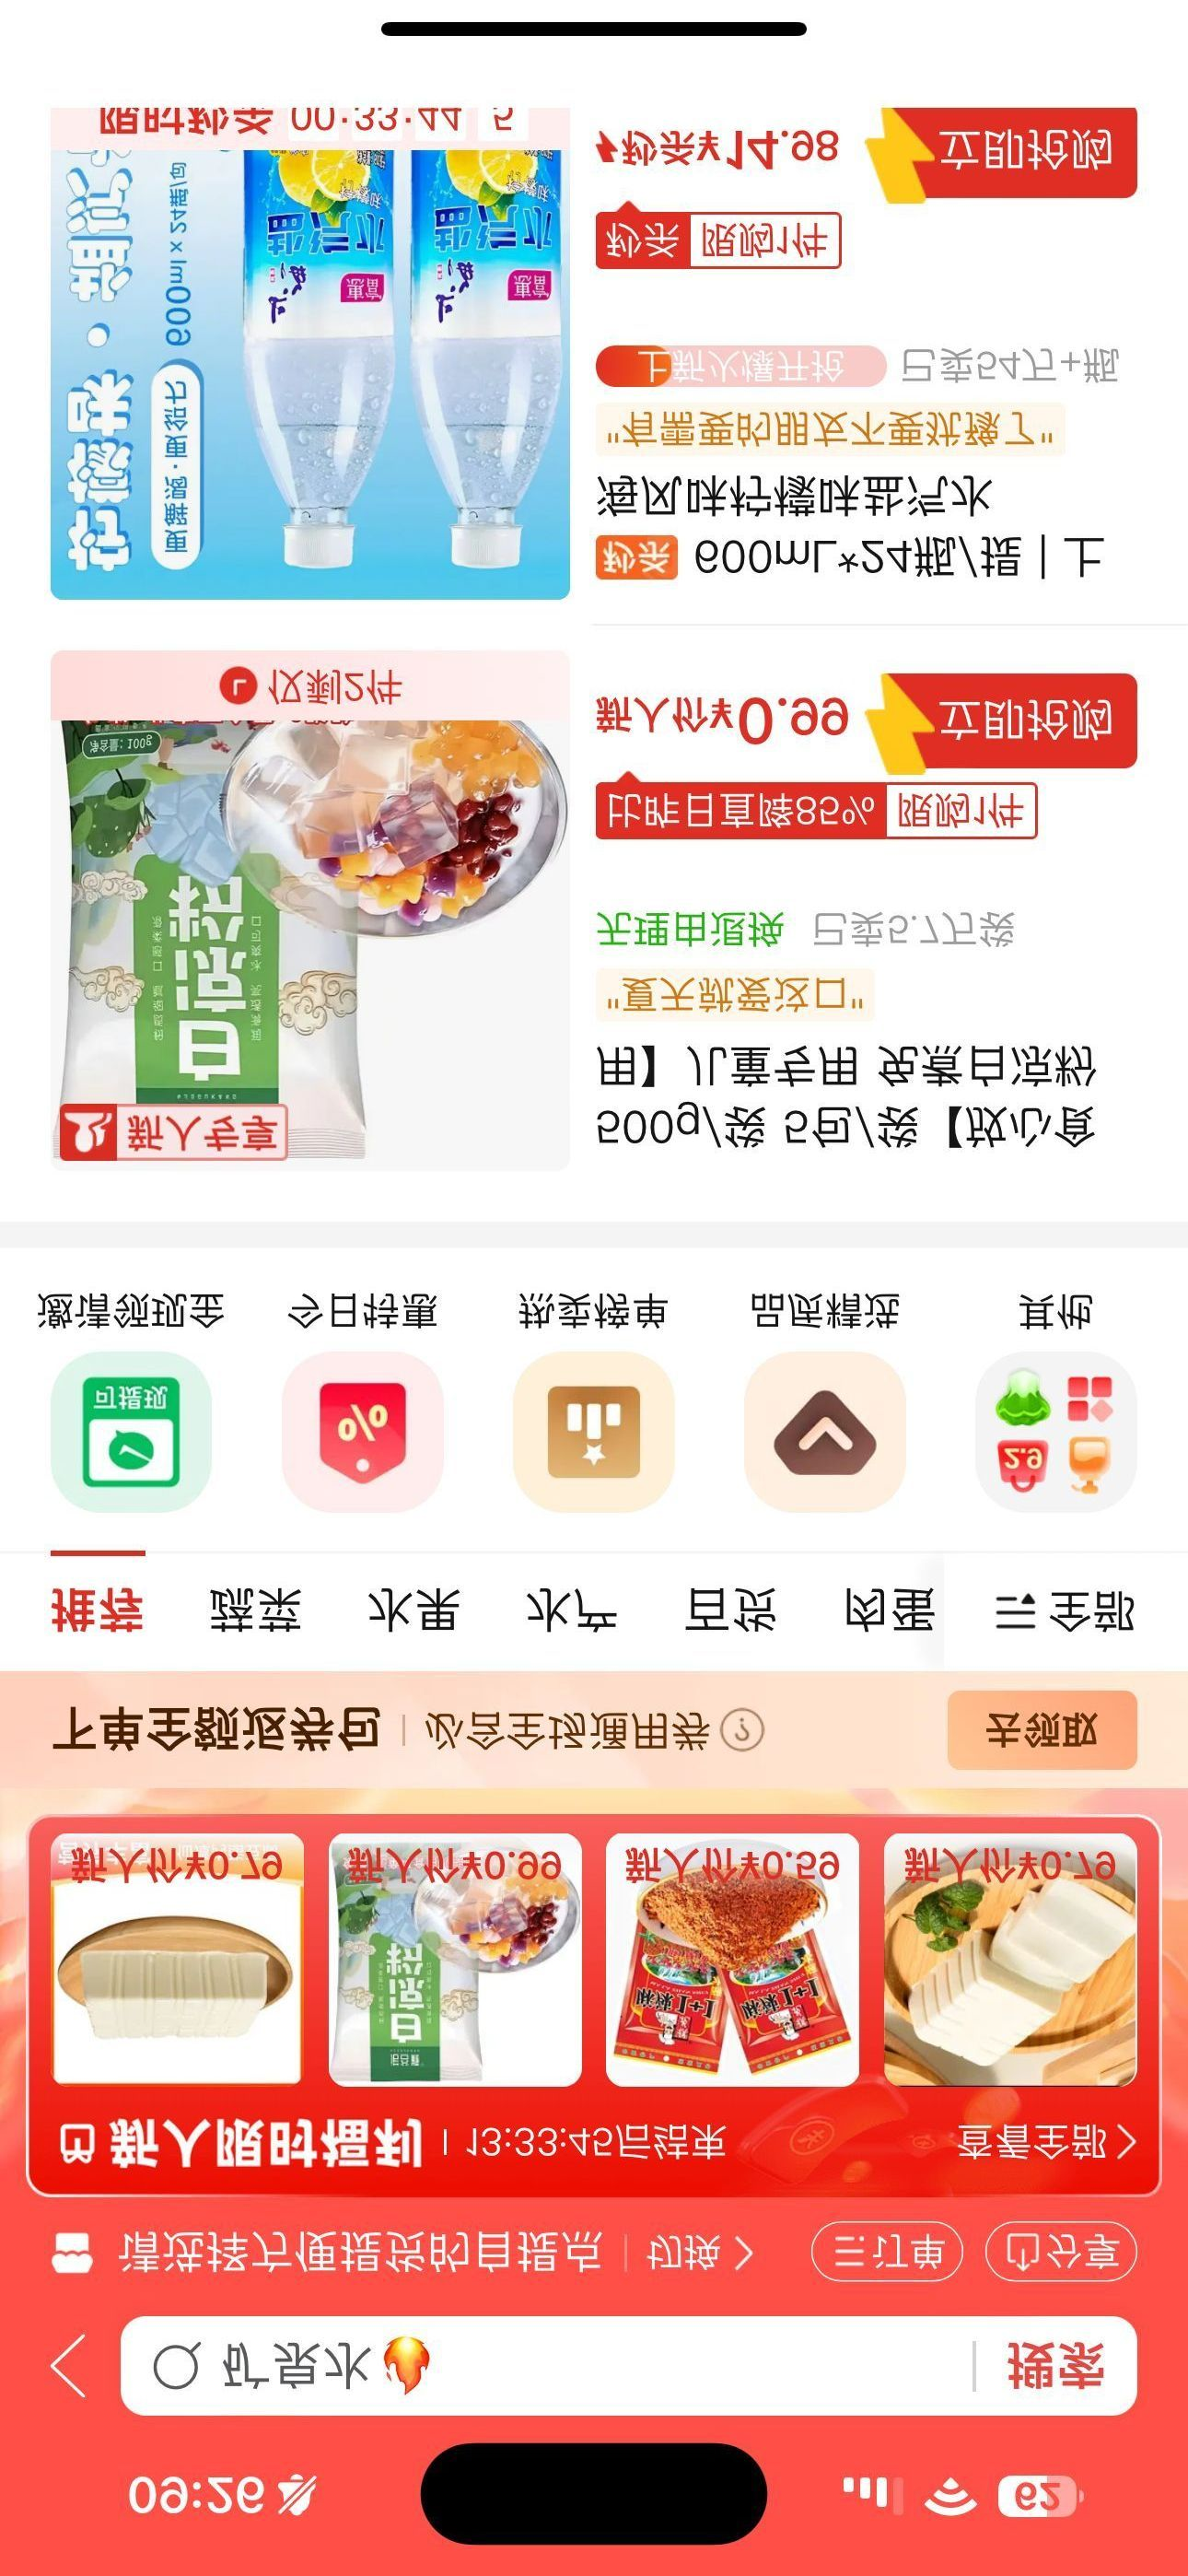item: (39, 651, 1155, 1183), (49, 97, 1168, 613)
op_bar: (3, 2305, 1178, 2435)
seckill: (33, 1819, 1158, 2187)
